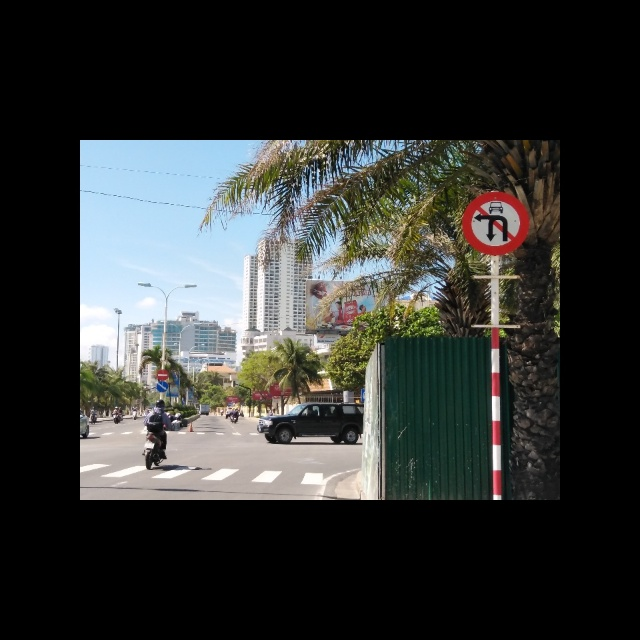Cấm xe ô tô quay đầu và rẽ trái: (461, 190, 529, 258)
